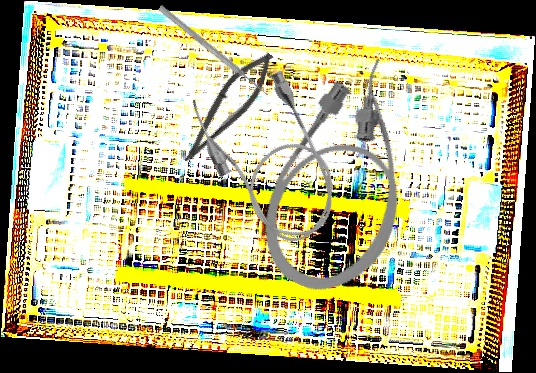Cannula: (242, 41, 454, 311), (183, 58, 355, 261)
Micro Scissor: (175, 42, 283, 175)
Pusher: (156, 3, 272, 100)
